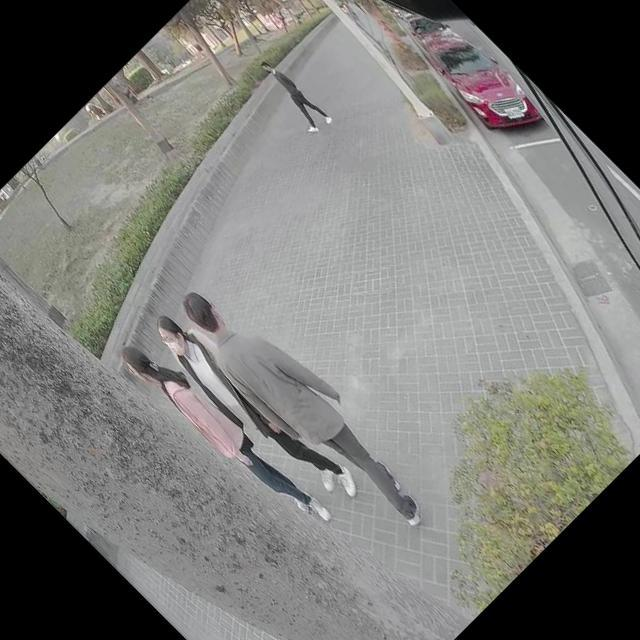person: (165, 268, 442, 545), (141, 299, 363, 521), (114, 326, 332, 545), (252, 54, 334, 136)
